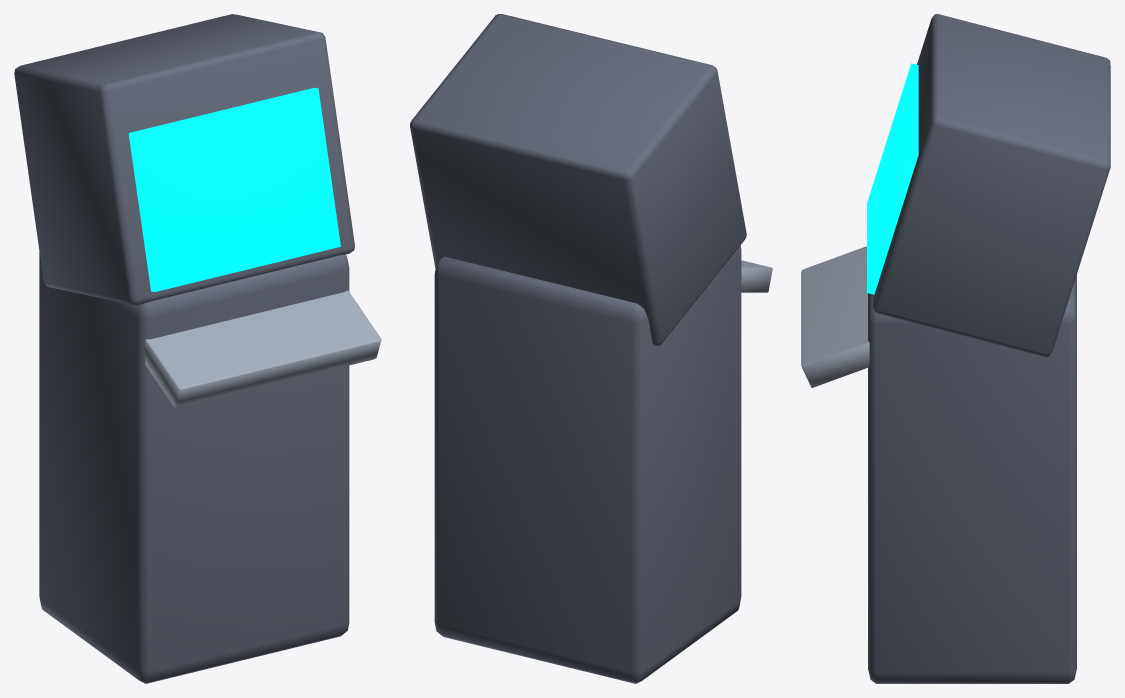
The model's file is prop-terminal.glb.
The picture shows the model from 3 angles, left to right: view 1: azimuth 30°, elevation 25°; view 2: azimuth 150°, elevation 25°; view 3: azimuth 270°, elevation 25°; orthographic projection.
Visible parts, largest first — view 1: PropTerminal; view 2: PropTerminal; view 3: PropTerminal.
Boxes of the visible parts, box(x1,y1,x2,y2) form: PropTerminal: box(14, 14, 381, 683); PropTerminal: box(410, 14, 772, 683); PropTerminal: box(801, 14, 1110, 683).
Size of the model in its own units: 0.8 by 1.96 by 0.9615.
